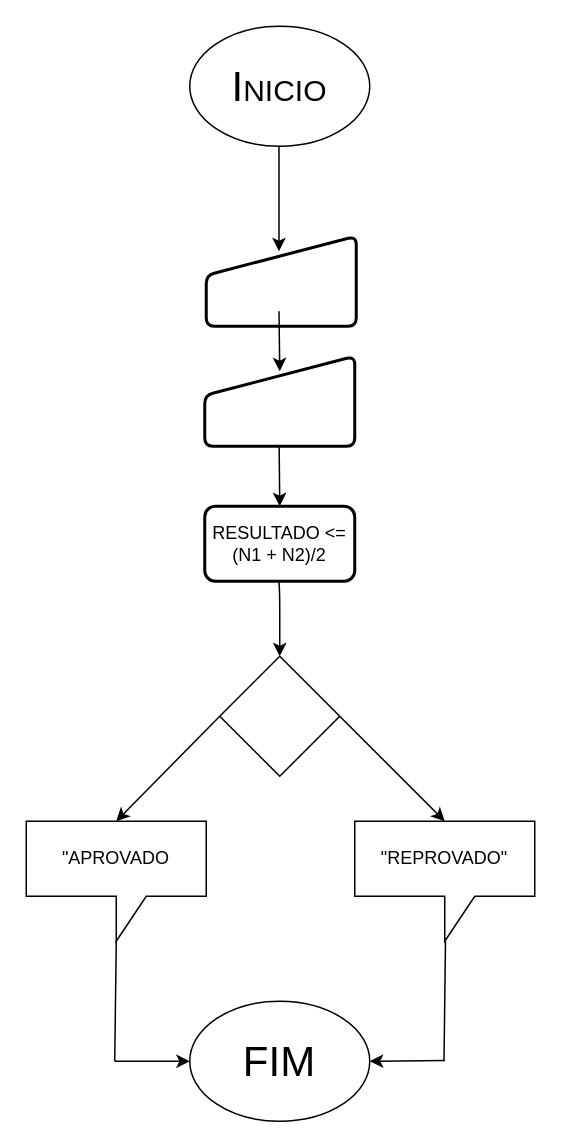
The diagram is 561 pixels wide and 1148 high, and some of its shapes have lost their labels. The centre of each missing label's shape, as x and y in pixels:
media >= 6: point (279, 715)
N1 <= VALOR1: point (280, 280)
N2<= VALOR2: point (279, 400)
